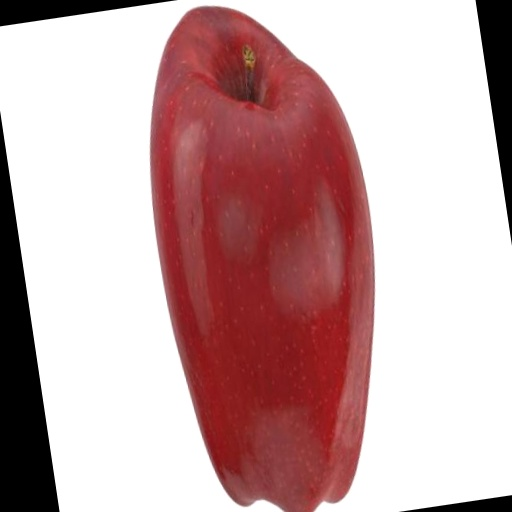fruit: (151, 7, 374, 512)
